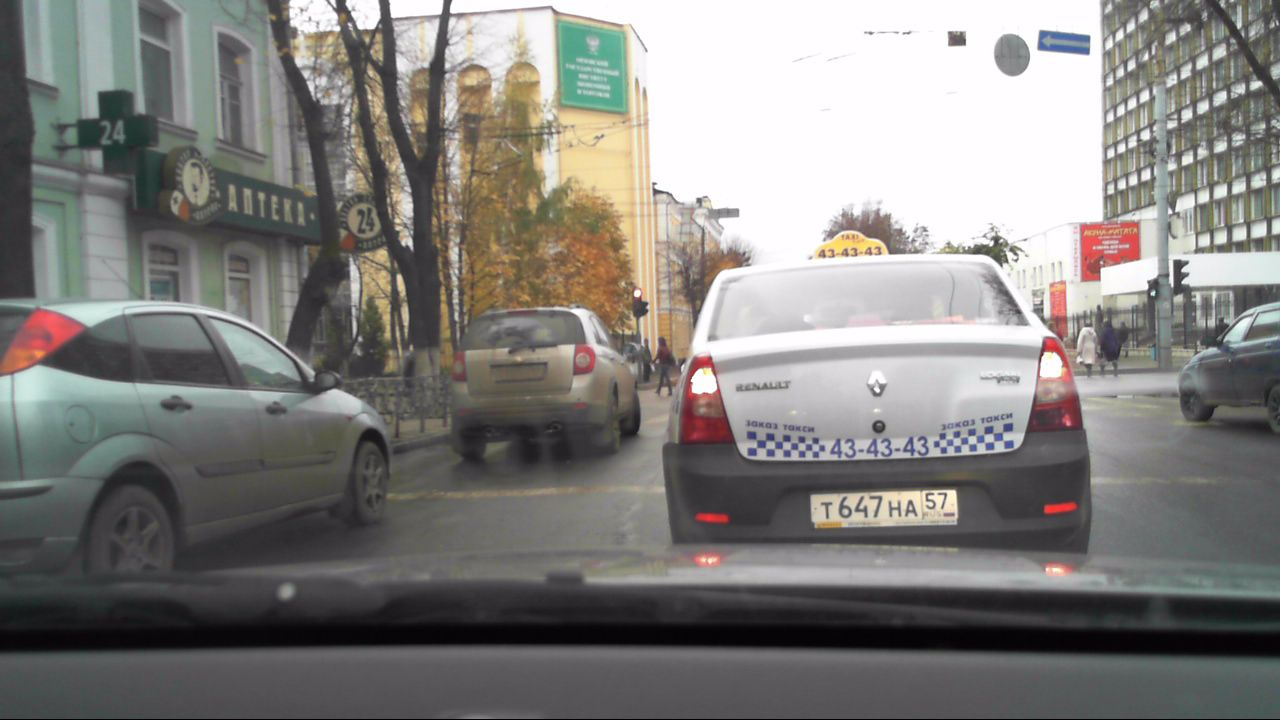One-Way Traffic: (1037, 30, 1090, 55)
